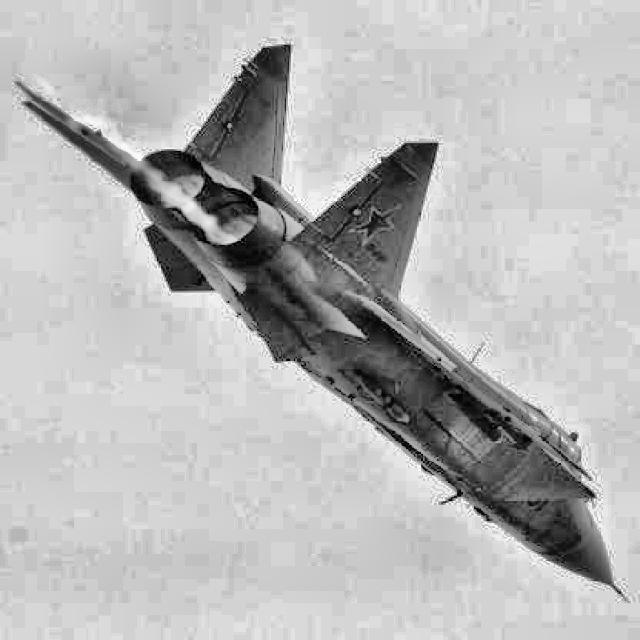Mig31: (14, 44, 631, 604)
